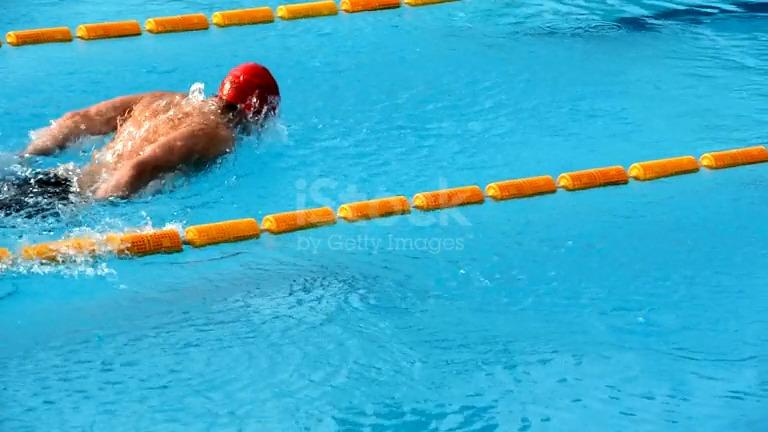Swimming: (2, 60, 282, 222)
